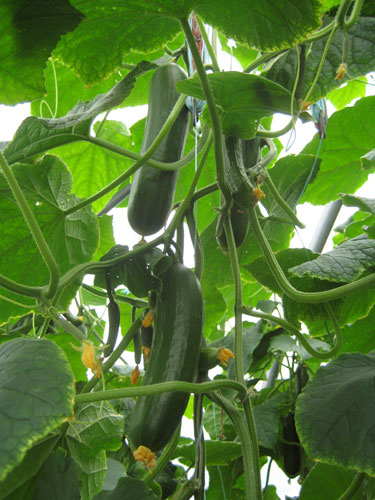cucumber: (123, 265, 202, 461), (126, 62, 190, 235), (216, 125, 260, 253), (278, 360, 308, 480), (97, 298, 123, 360)
